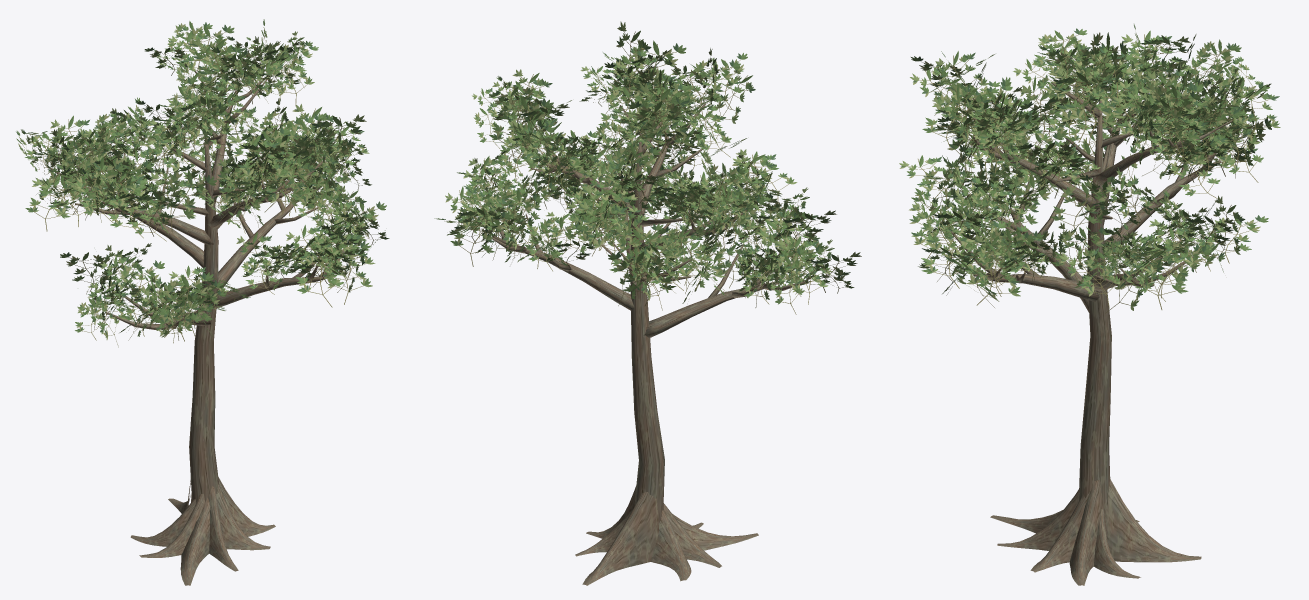
File: rainforest-tree-2.glb
The picture shows the model from 3 angles, left to right: view 1: azimuth 30°, elevation 25°; view 2: azimuth 150°, elevation 25°; view 3: azimuth 270°, elevation 25°; orthographic projection. The views are drawn at different scales.
Visible parts, largest first — view 1: Rainforest foliage, Woody skeleton; view 2: Rainforest foliage, Woody skeleton; view 3: Rainforest foliage, Woody skeleton.
Part boxes in pixels (<box>): Rainforest foliage: <box>16,19,389,347</box>; Woody skeleton: <box>48,71,355,585</box>; Rainforest foliage: <box>434,21,861,314</box>; Woody skeleton: <box>491,91,805,585</box>; Rainforest foliage: <box>899,24,1280,313</box>; Woody skeleton: <box>950,83,1232,585</box>.
Size of the model in its own units: 20.18 by 26 by 18.22.
Materials: 2 (2 with a texture image).
